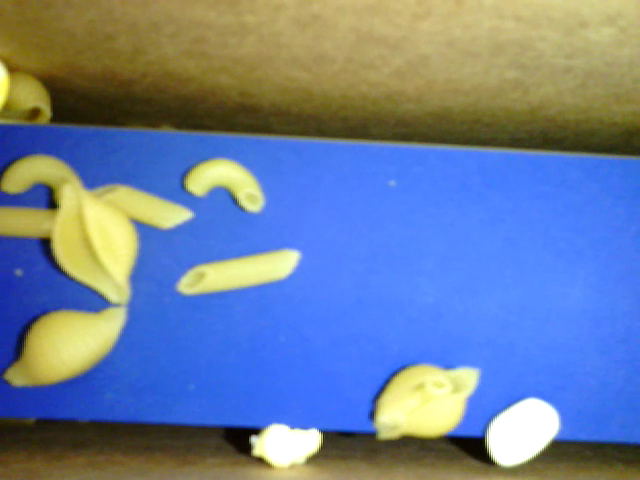elbow: (182, 157, 269, 214), (3, 154, 85, 202)
penne: (172, 247, 303, 298), (88, 185, 198, 232), (1, 207, 60, 238)
shell: (50, 183, 138, 305), (5, 306, 134, 389), (371, 361, 481, 442), (3, 70, 54, 130)
